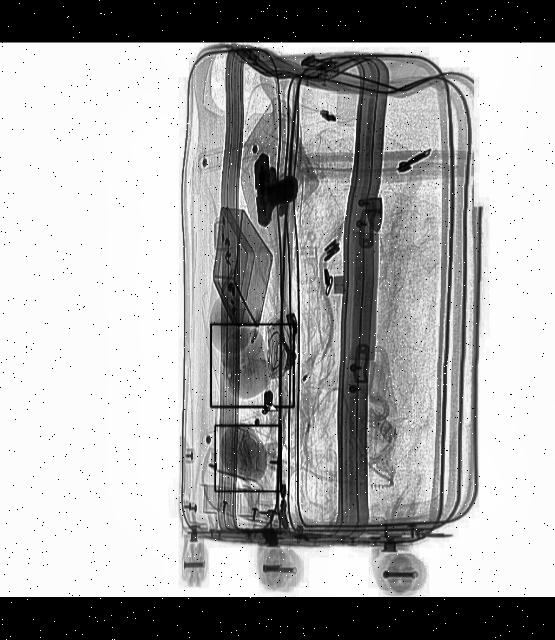Gun: (250, 154, 301, 227)
